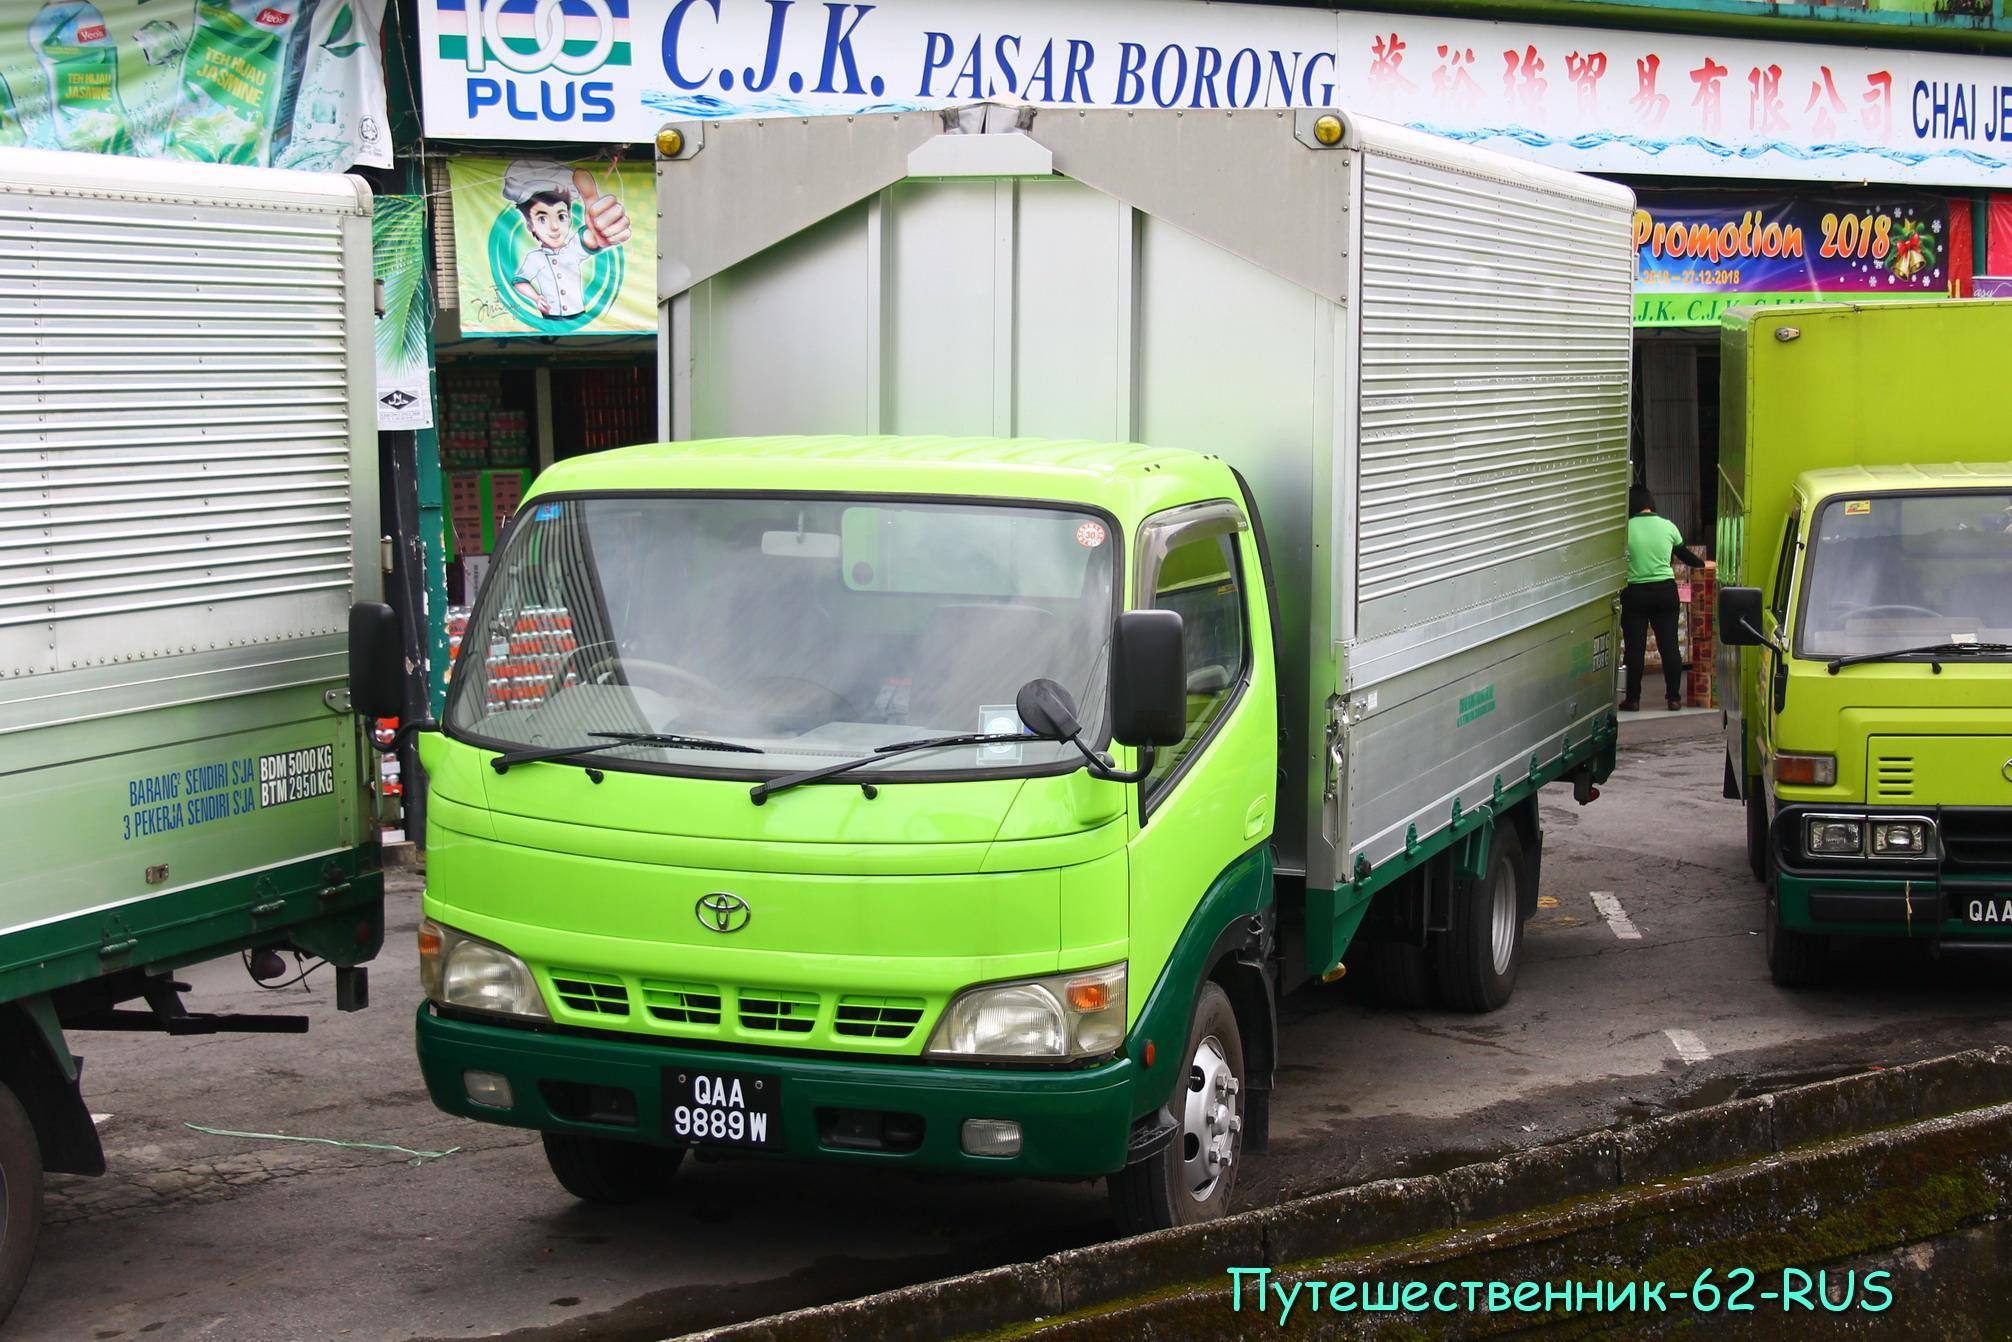License Plate: (666, 1067, 786, 1142)
